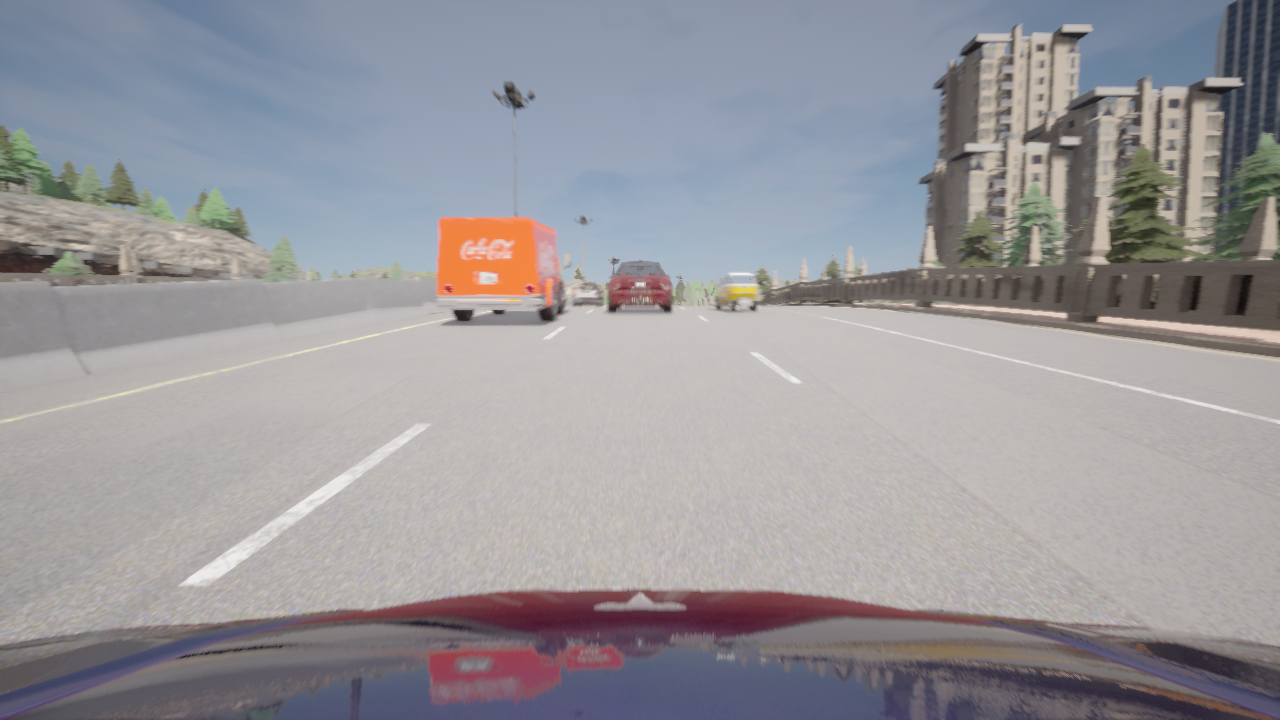cyclist: (0, 588, 1279, 719), (436, 218, 569, 321), (608, 261, 671, 312), (716, 272, 758, 311), (573, 283, 602, 305)
